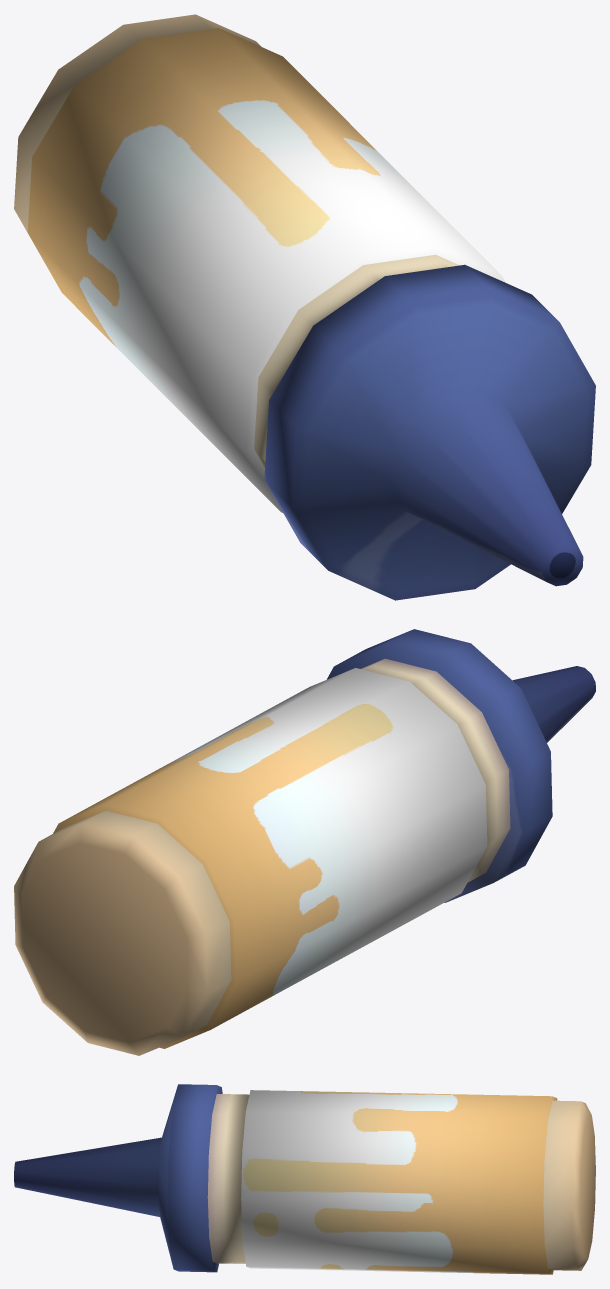
Rendered from Mayo.fbx.
The picture shows the model from 3 angles, top to bottom: view 1: azimuth 30°, elevation 25°; view 2: azimuth 150°, elevation 25°; view 3: azimuth 270°, elevation 25°; orthographic projection. The views are drawn at different scales.
Visible parts, largest first — view 1: Mayo; view 2: Mayo; view 3: Mayo.
Boxes of the visible parts, x1,y1,x2,y2 form: Mayo: [14, 14, 595, 600]; Mayo: [14, 629, 595, 1055]; Mayo: [14, 1084, 595, 1274].
Bounding box in the file's own units: 23 × 20.08 × 60.64.
